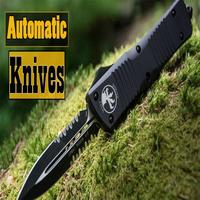knife: (14, 2, 192, 198)
